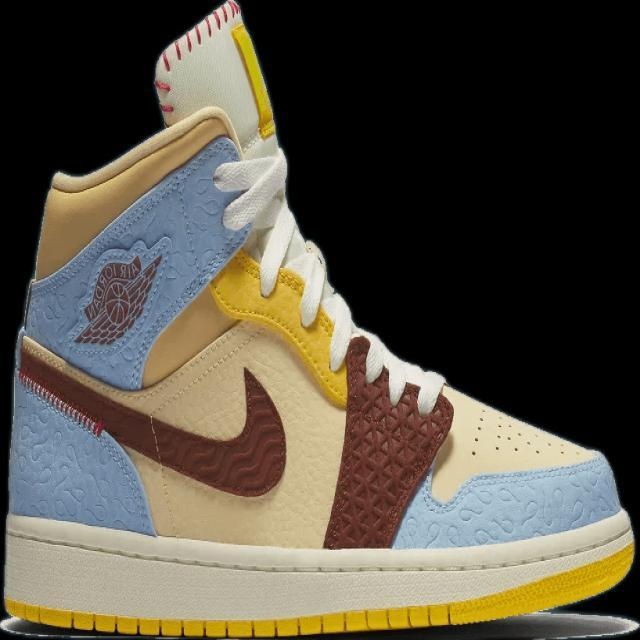J1_InsoleChar: (1, 1, 635, 638)
J1_ShoeLogo: (71, 234, 171, 347)
J1_StitchPattern: (14, 324, 456, 549), (14, 331, 288, 499), (321, 334, 454, 550), (3, 599, 454, 637), (150, 0, 242, 122), (465, 404, 588, 463), (15, 367, 106, 438)
